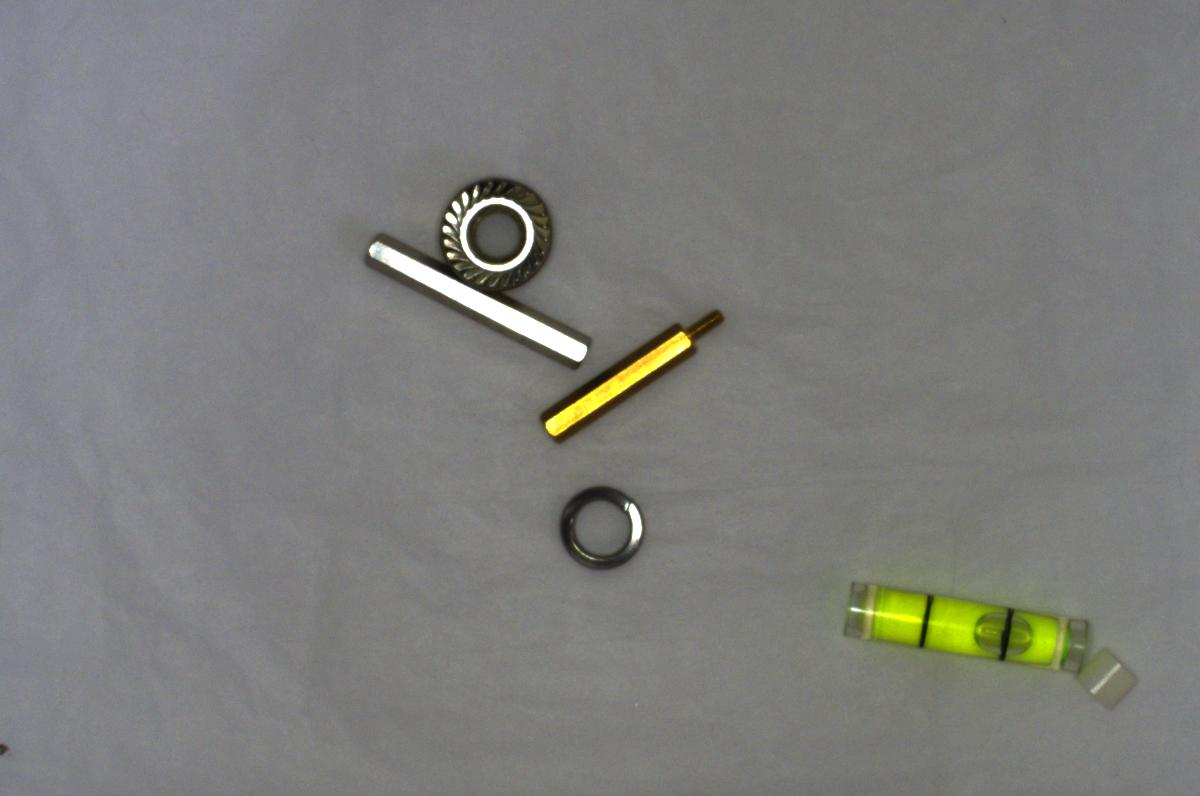Double hexagonal column: (353, 229, 598, 369)
Flange nut: (431, 178, 557, 294)
Hexagon pillar: (539, 294, 720, 448)
Horizontal bubble: (830, 569, 1101, 680)
Plastic cushion pillar: (1072, 634, 1137, 713)
Spring washer: (546, 480, 657, 569)
